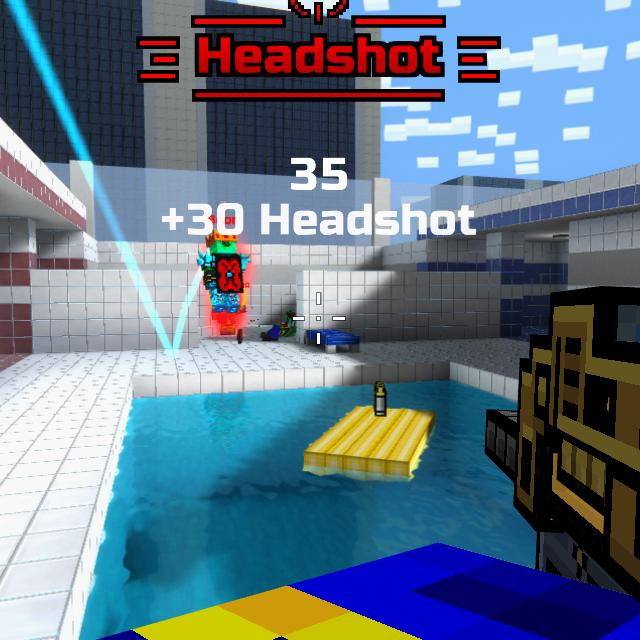Enemy: (197, 231, 251, 314)
